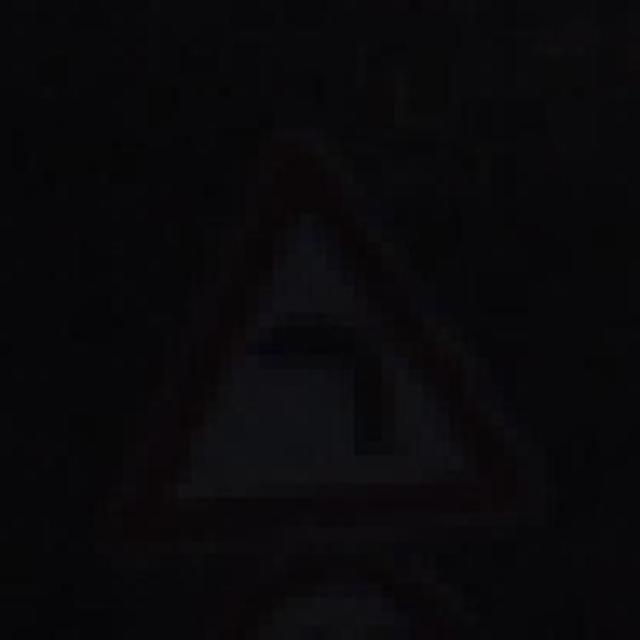Dangerous Left Curve Ahead: (101, 141, 564, 568)
